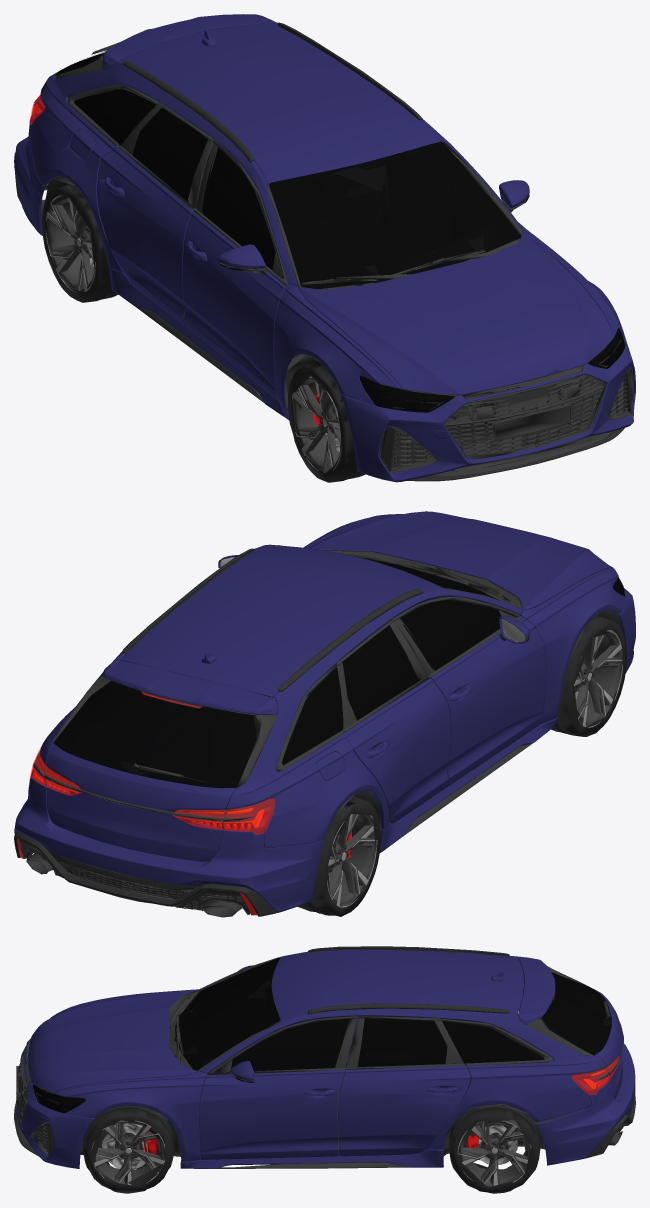
The model's file is car-rs6c8.glb.
The picture shows the model from 3 angles, top to bottom: view 1: azimuth 30°, elevation 25°; view 2: azimuth 150°, elevation 25°; view 3: azimuth 270°, elevation 25°; orthographic projection. The views are drawn at different scales.
Size of the model in its own units: 2.12 by 1.52 by 4.98.
